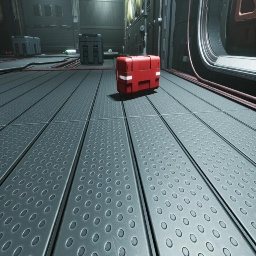0: (63, 50, 76, 55), (108, 49, 112, 52)
FireExtinguisher ]: (2, 50, 14, 56)
FirstAidBox ,: (116, 55, 160, 96)
